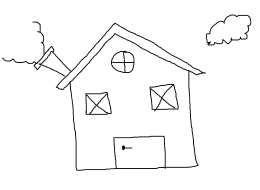closed_window: (149, 84, 179, 110), (81, 91, 113, 115), (111, 51, 134, 72)
clouds: (204, 11, 252, 47)
door: (112, 130, 167, 173)
roof: (54, 22, 206, 90)
smoking_chimney: (0, 18, 72, 77)
wall: (69, 70, 198, 171)
